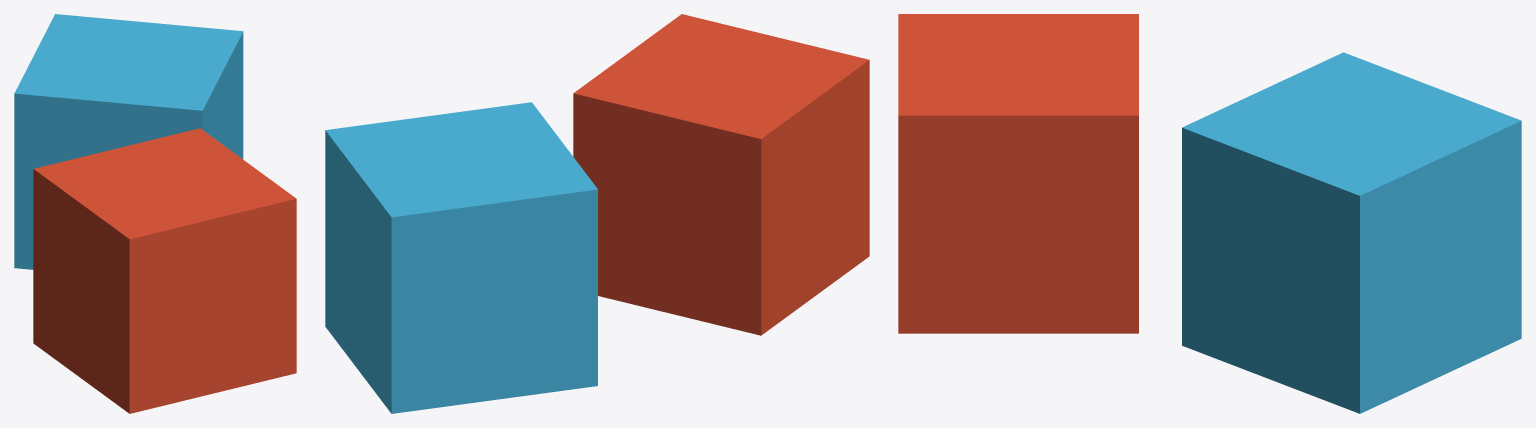
File: gifts.glb
The picture shows the model from 3 angles, left to right: view 1: azimuth 30°, elevation 25°; view 2: azimuth 150°, elevation 25°; view 3: azimuth 270°, elevation 25°; orthographic projection. The views are drawn at different scales.
Visible parts, largest first — view 1: Cube, Cube.001; view 2: Cube, Cube.001; view 3: Cube.001, Cube.
Part boxes in pixels (bbox=[...]): Cube: bbox=[33, 128, 296, 413]; Cube.001: bbox=[14, 14, 243, 269]; Cube: bbox=[573, 14, 869, 335]; Cube.001: bbox=[325, 102, 597, 413]; Cube.001: bbox=[1182, 52, 1521, 413]; Cube: bbox=[898, 14, 1138, 333].
Size of the model in its own units: 0.7374 by 0.412 by 1.07.
